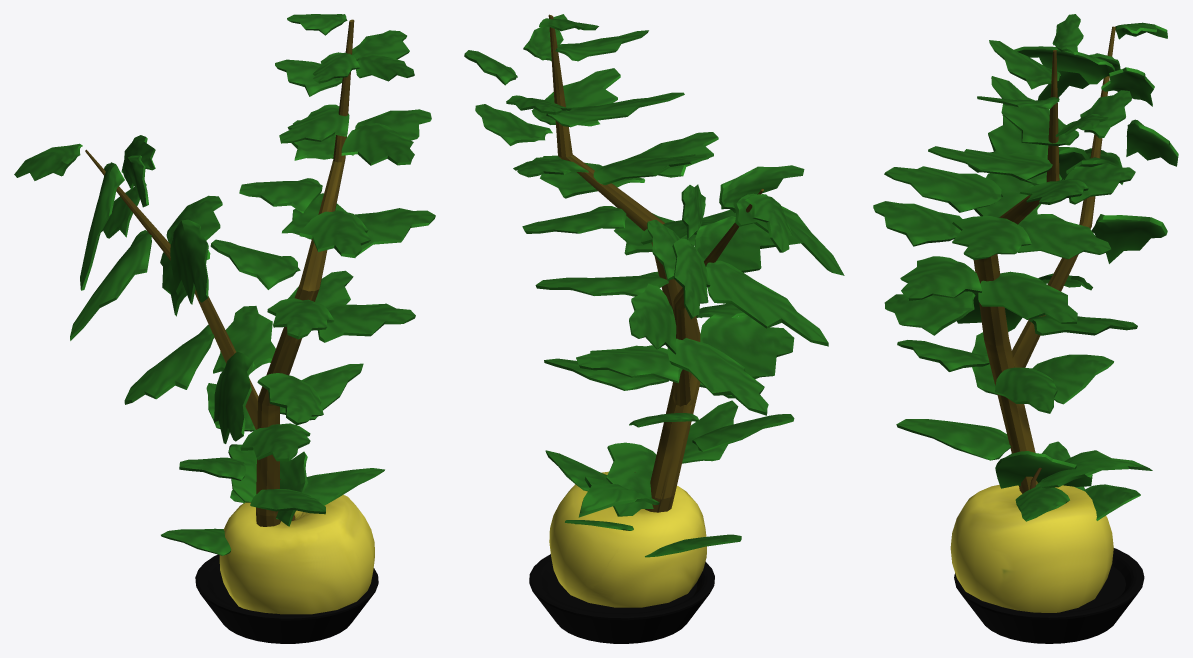
Rendered from Multifruit.glb.
3 views of the same model, side by side, from view 1: azimuth 30°, elevation 25°; view 2: azimuth 150°, elevation 25°; view 3: azimuth 270°, elevation 25° (orthographic). The views are drawn at different scales.
Parts seen in each view (by area): view 1: MultifruitTree, Multifruit; view 2: MultifruitTree, Multifruit; view 3: MultifruitTree, Multifruit.
Part boxes in pixels (bbox=[...]): MultifruitTree: bbox=[14, 14, 435, 643]; Multifruit: bbox=[219, 444, 374, 614]; MultifruitTree: bbox=[464, 14, 844, 643]; Multifruit: bbox=[549, 471, 706, 607]; MultifruitTree: bbox=[873, 14, 1178, 643]; Multifruit: bbox=[950, 450, 1152, 612].
Bounding box in the file's own units: 4.45 × 6.91 × 3.15.
Materials: 2 (2 with a texture image).
